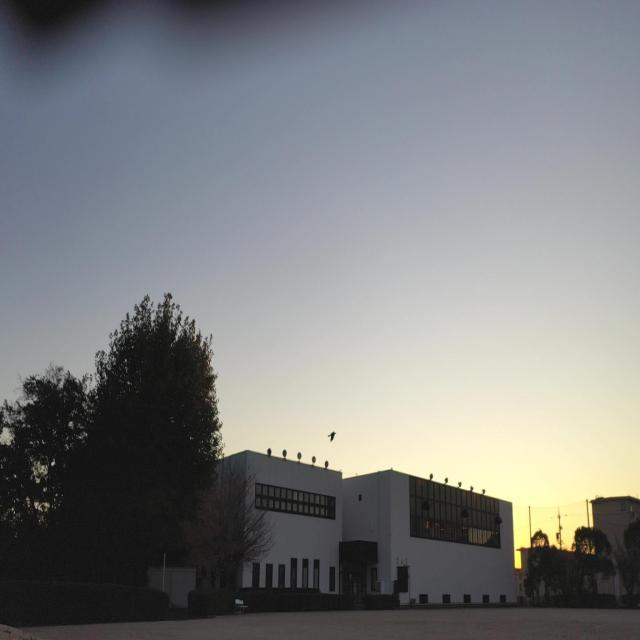Birds: (327, 428, 339, 448)
